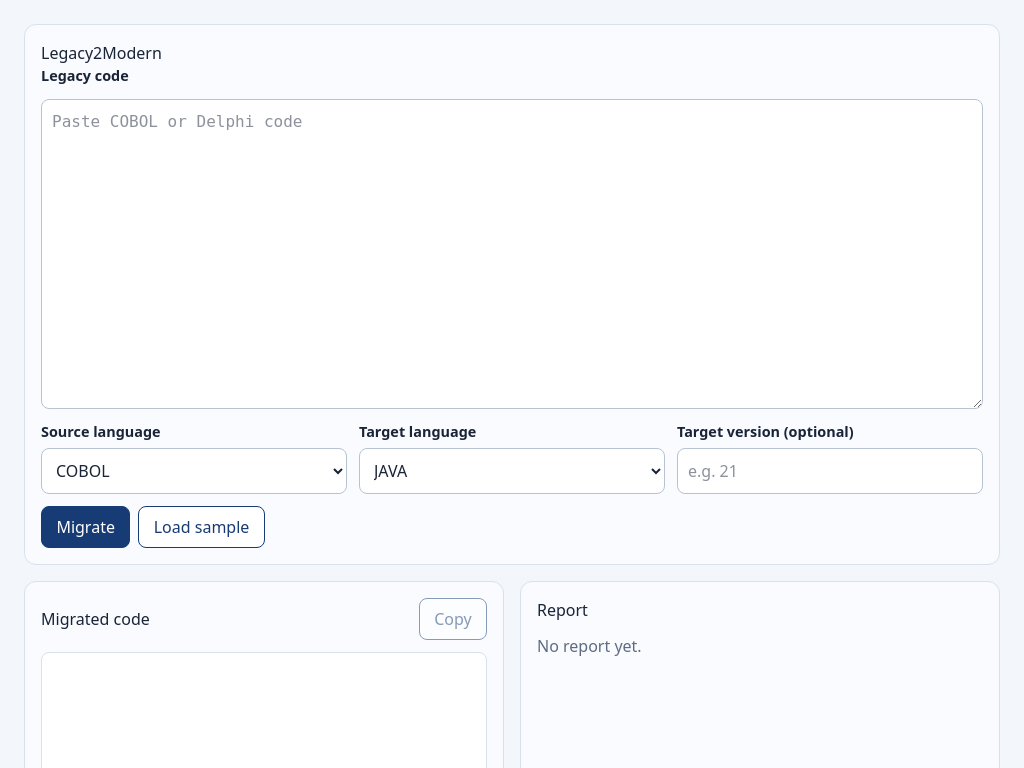
Test: Legacy2ModernPageComponent › renders error state when migrate fails
The image size is (1024, 768).
Type "IDENTIFICATION DIVISION." into the text box with test id "legacy-code-input" at (512, 254), box [41,99,983,409]
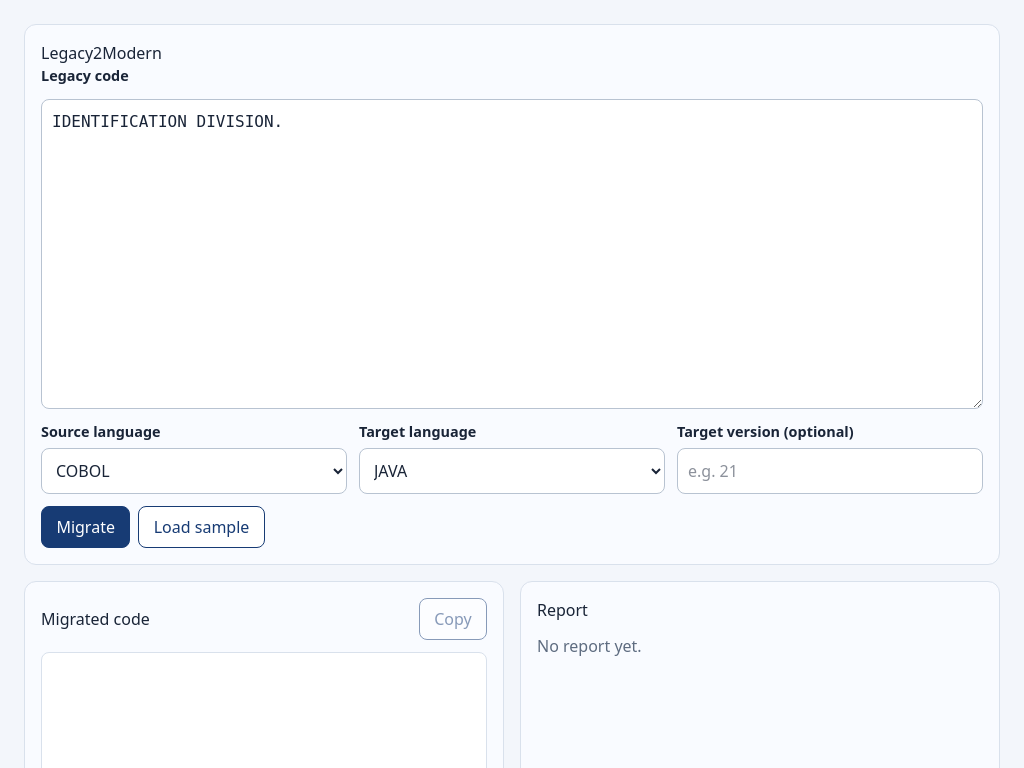
Click the button with test id "migrate-btn" at (86, 527), box [41,506,130,548]
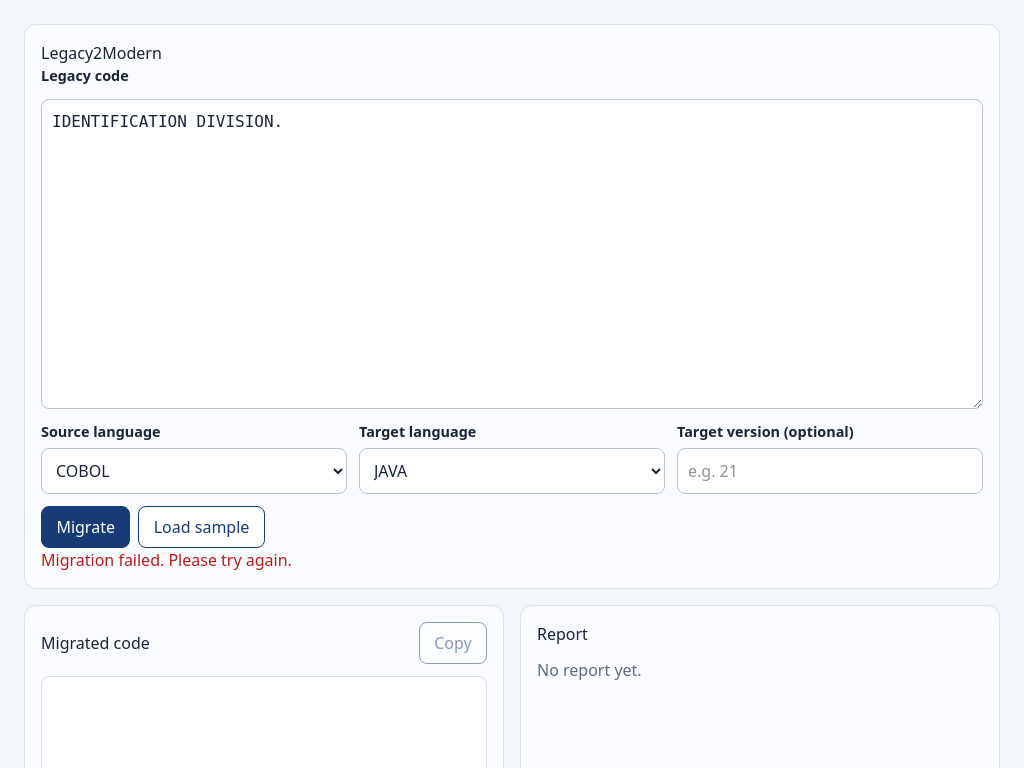
expect the message with test id "error-state" reads "Migration failed. Please try again.": met, box [41,549,292,571]
